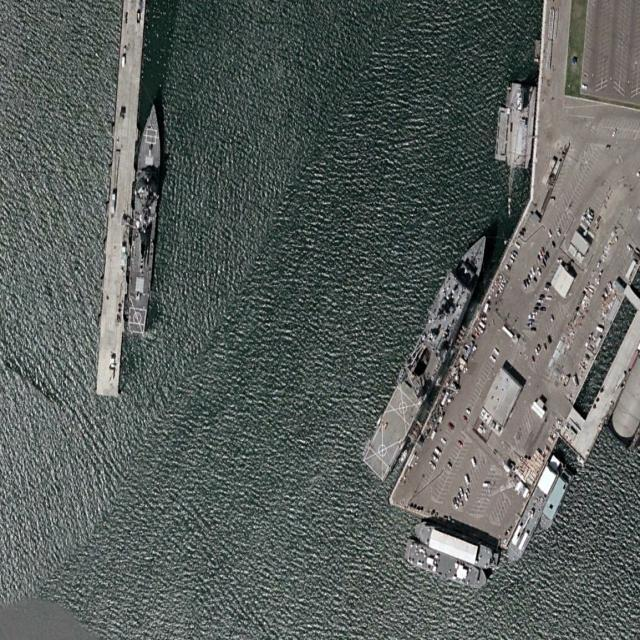Destroyer: (360, 221, 497, 484), (125, 101, 165, 335)
Other Warship: (403, 538, 489, 595), (413, 517, 494, 573)
